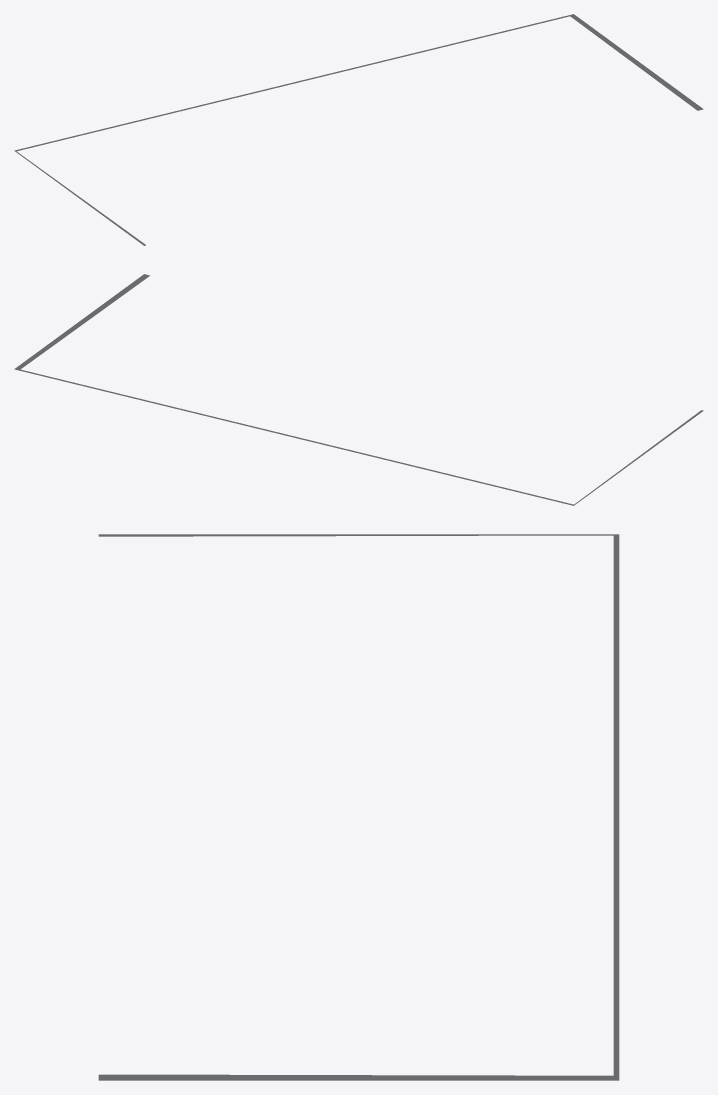
File: kd_stage_135c43_4_95_bounded_piece_3.glb
3 renders of one model, top to bottom at view 1: azimuth 30°, elevation 25°; view 2: azimuth 150°, elevation 25°; view 3: azimuth 270°, elevation 25°, orthographic. The views are drawn at different scales.
Parts seen in each view (by area): view 1: kd_stage_135c43_4_95_bounded_piece_3; view 2: kd_stage_135c43_4_95_bounded_piece_3; view 3: kd_stage_135c43_4_95_bounded_piece_3.
Part boxes in pixels (left/top/right/bottom): kd_stage_135c43_4_95_bounded_piece_3: left=14, top=14, right=703, bottom=245; kd_stage_135c43_4_95_bounded_piece_3: left=14, top=274, right=703, bottom=505; kd_stage_135c43_4_95_bounded_piece_3: left=98, top=534, right=619, bottom=1080.
Size of the model in its own units: 1.82 by 5.96e-08 by 0.7311.
1 material, 1 textured.
